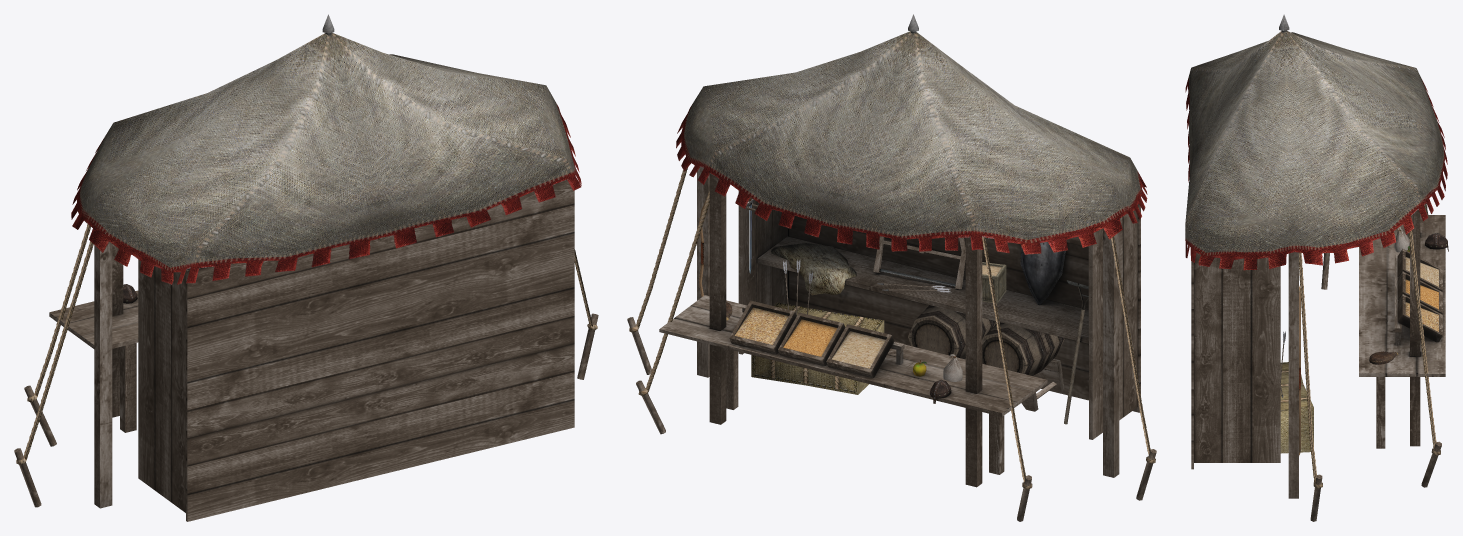
Rendered from MarketStall.dae.
3 renders of one model, left to right at view 1: azimuth 30°, elevation 25°; view 2: azimuth 150°, elevation 25°; view 3: azimuth 270°, elevation 25°, orthographic. The views are drawn at different scales.
Parts seen in each view (by area): view 1: Marketstall; view 2: Marketstall; view 3: Marketstall.
Part boxes in pixels (x1=…): Marketstall: x1=14, y1=14, x2=598, y2=521; Marketstall: x1=627, y1=14, x2=1156, y2=521; Marketstall: x1=1185, y1=14, x2=1448, y2=521.
Size of what is drawn, in the model's own units: 4.76 by 3.49 by 2.13.
1 material, 1 textured.
